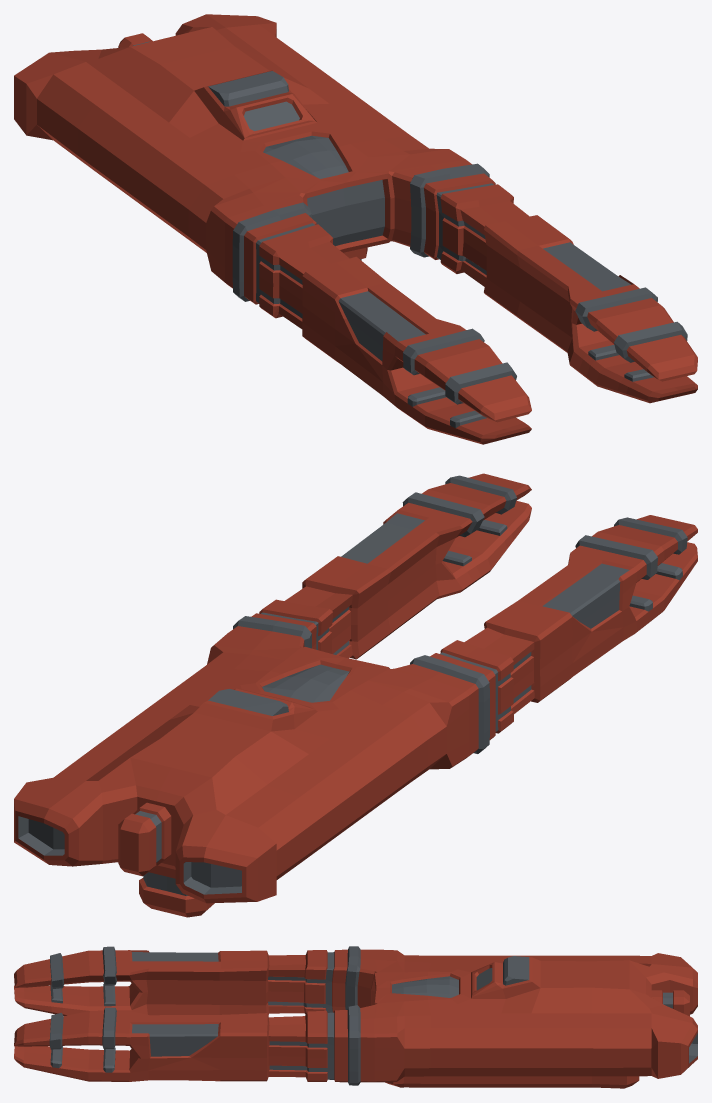
The model's file is Fighter_01__Red.fbx.
3 views of the same model, one above another, from view 1: azimuth 30°, elevation 25°; view 2: azimuth 150°, elevation 25°; view 3: azimuth 270°, elevation 25° (orthographic). The views are drawn at different scales.
Visible parts, largest first — view 1: Fighter_01__Red; view 2: Fighter_01__Red; view 3: Fighter_01__Red.
Part boxes in pixels (x1=…): Fighter_01__Red: x1=14, y1=14, x2=697, y2=444; Fighter_01__Red: x1=14, y1=473, x2=697, y2=917; Fighter_01__Red: x1=14, y1=946, x2=697, y2=1088.
Bounding box in the file's own units: 380 × 225 × 1235.
2 materials, 2 textured.
